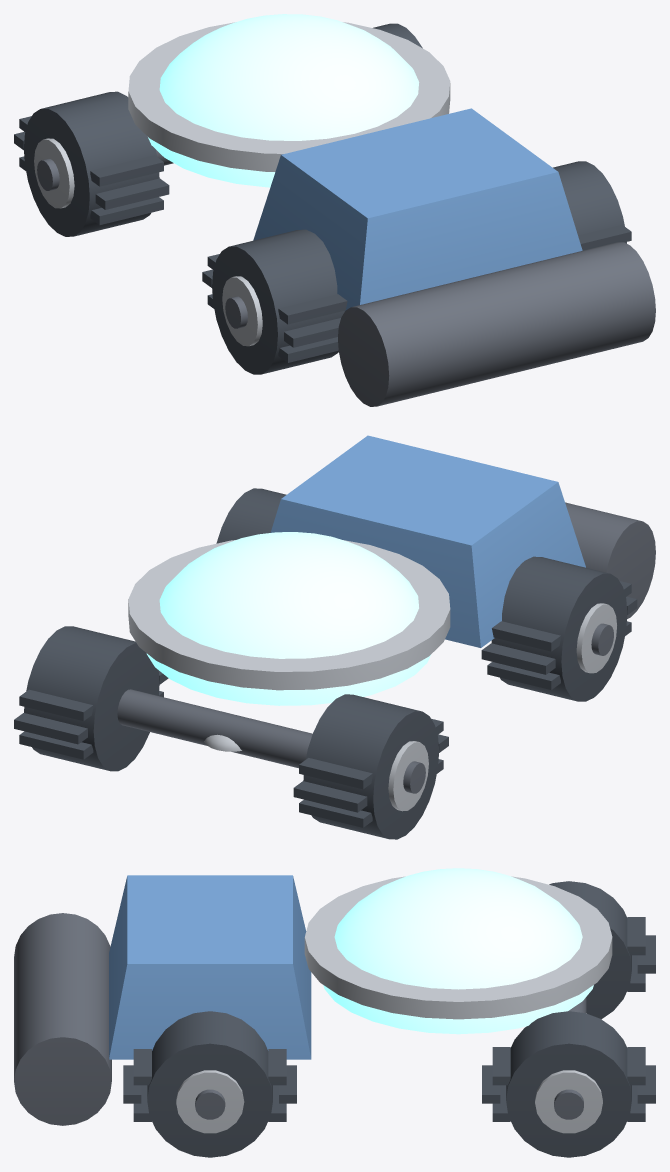
The model's file is cmin.glb.
3 renders of one model, top to bottom at view 1: azimuth 30°, elevation 25°; view 2: azimuth 150°, elevation 25°; view 3: azimuth 270°, elevation 25°, orthographic. The views are drawn at different scales.
Visible parts, largest first — view 1: Hull; view 2: Hull; view 3: Hull.
Part boxes in pixels (left/top/right/bottom): Hull: left=14, top=14, right=655, bottom=406; Hull: left=14, top=435, right=655, bottom=839; Hull: left=14, top=868, right=655, bottom=1157.
Bounding box in the file's own units: 2.23 × 1.15 × 3.49.
